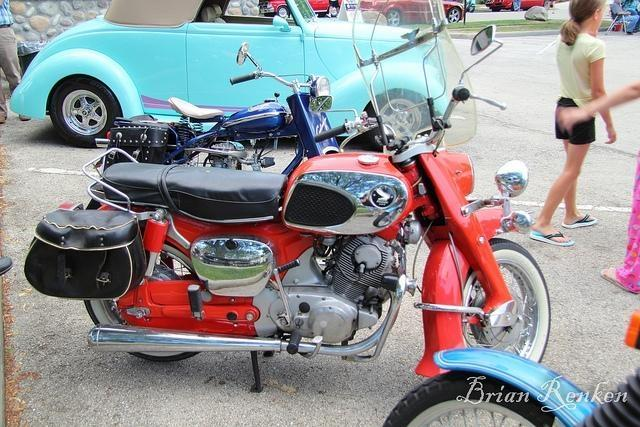car: (11, 7, 442, 143), (444, 0, 464, 23)
motorcycle: (25, 1, 554, 392), (92, 44, 328, 167), (383, 349, 640, 427)
